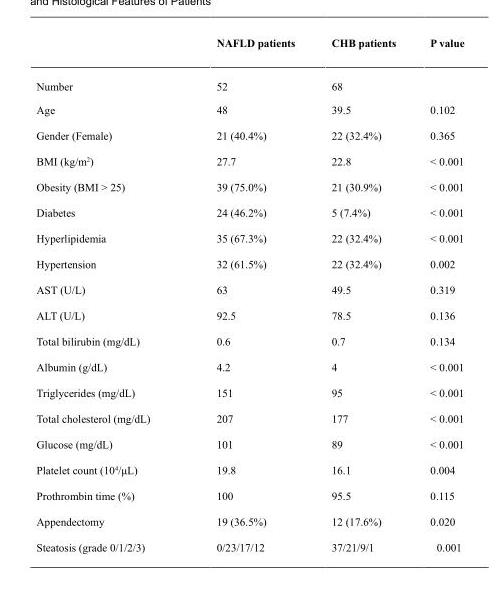table: (35, 35, 463, 552)
table column: (35, 35, 182, 552), (182, 35, 312, 552), (312, 35, 412, 552), (412, 35, 463, 552)
table column header: (35, 35, 463, 63)
table row: (35, 63, 463, 97), (35, 35, 463, 63), (35, 147, 463, 173), (35, 173, 463, 199), (35, 224, 463, 250), (35, 250, 463, 276), (35, 276, 463, 302), (35, 327, 463, 353), (35, 353, 463, 379), (35, 379, 463, 405), (35, 430, 463, 456), (35, 456, 463, 482), (35, 482, 463, 508), (35, 97, 463, 122), (35, 122, 463, 147), (35, 199, 463, 224), (35, 302, 463, 327), (35, 405, 463, 430), (35, 508, 463, 533), (35, 533, 463, 552)
